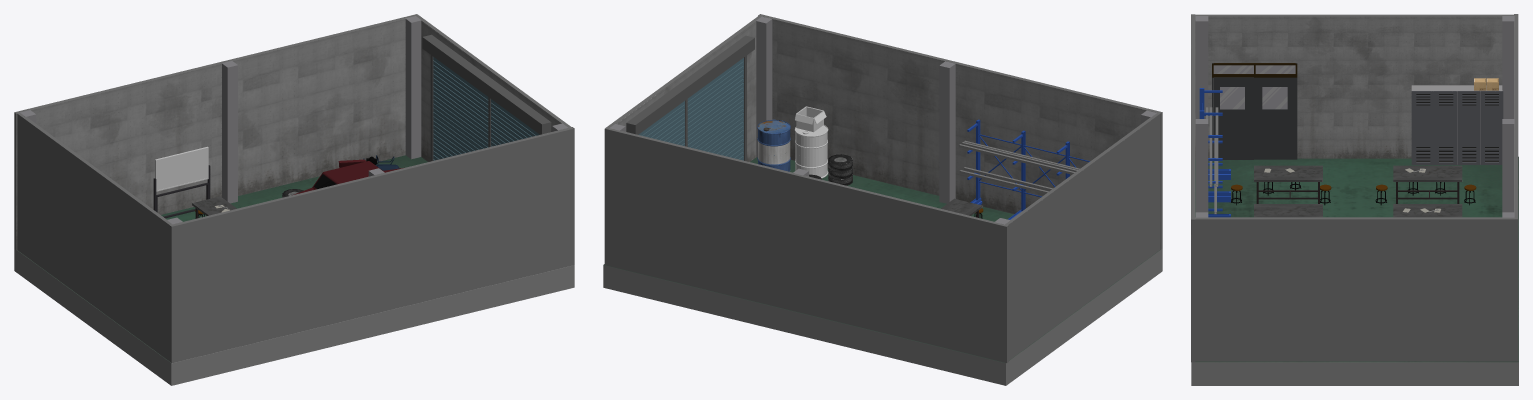
File: car02.fbx
3 views of the same model, side by side, from view 1: azimuth 30°, elevation 25°; view 2: azimuth 150°, elevation 25°; view 3: azimuth 270°, elevation 25° (orthographic). The views are drawn at different scales.
Visible parts, largest first — view 1: Cube.004, Cube.003, Cube.006, Plane, Cube.067, Cube.039, Cube.028, Cube.026, Cube.066, Cube.010, Cube.071, Cube; view 2: Cube.003, Cube.004, Cube.006, Plane, Cube.067, Cube.039, Cube.030, Cube.031, Cube.013, Cylinder.002, Cylinder.024, Cube.002 (+1 smaller); view 3: Cube.039, Cube.006, Plane, Cube.074, Cube.004, Cube.016, Cube.024, Cube.022, Cube.035, Cube.003, Cube.030, Cube.029 (+15 smaller).
Boxes of the visible parts, x1,y1,x2,y2 form: Cube.004: [169, 127, 574, 363]; Cube.003: [14, 14, 418, 250]; Cube.006: [17, 112, 172, 361]; Plane: [14, 155, 574, 385]; Cube.067: [422, 34, 551, 161]; Cube.039: [416, 15, 571, 161]; Cube.028: [405, 16, 421, 159]; Cube.026: [222, 61, 237, 203]; Cube.066: [155, 146, 208, 191]; Cube.010: [292, 159, 404, 195]; Cube.071: [153, 165, 210, 218]; Cube: [192, 196, 236, 215]; Cube.003: [604, 127, 1008, 363]; Cube.004: [758, 14, 1162, 249]; Cube.006: [1005, 113, 1160, 360]; Plane: [603, 157, 1162, 385]; Cube.067: [626, 35, 754, 161]; Cube.039: [606, 15, 761, 161]; Cube.030: [939, 61, 955, 203]; Cube.031: [756, 16, 772, 157]; Cube.013: [967, 119, 1089, 219]; Cylinder.002: [757, 119, 790, 171]; Cylinder.024: [794, 125, 828, 178]; Cube.002: [795, 106, 826, 132]; Cube.039: [1195, 217, 1514, 361]; Cube.006: [1195, 14, 1514, 158]; Plane: [1191, 156, 1518, 385]; Cube.074: [1212, 63, 1297, 159]; Cube.004: [1191, 14, 1195, 362]; Cube.016: [1457, 91, 1480, 164]; Cube.024: [1411, 91, 1434, 164]; Cube.022: [1434, 91, 1457, 164]; Cube.035: [1480, 91, 1503, 164]; Cube.003: [1514, 14, 1518, 361]; Cube.030: [1195, 119, 1208, 212]; Cube.029: [1195, 16, 1208, 118].
Size of the model in its own units: 24001 by 9039 by 16155.
